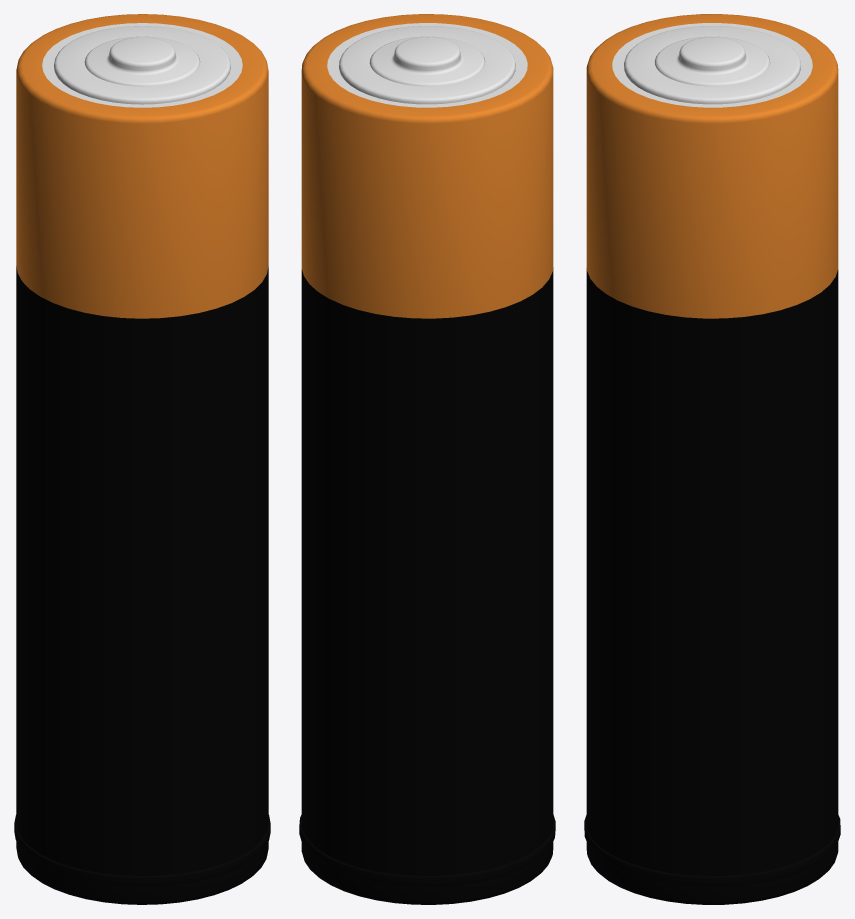
The model's file is cell.fbx.
3 renders of one model, left to right at view 1: azimuth 30°, elevation 25°; view 2: azimuth 150°, elevation 25°; view 3: azimuth 270°, elevation 25°, orthographic.
Parts seen in each view (by area): view 1: AA_Battery.005; view 2: AA_Battery.005; view 3: AA_Battery.005.
Part boxes in pixels (bbox=[...]): AA_Battery.005: bbox=[14, 14, 270, 904]; AA_Battery.005: bbox=[299, 14, 555, 904]; AA_Battery.005: bbox=[584, 14, 840, 904].
Size of the model in its own units: 13.79 by 47.95 by 13.79.
